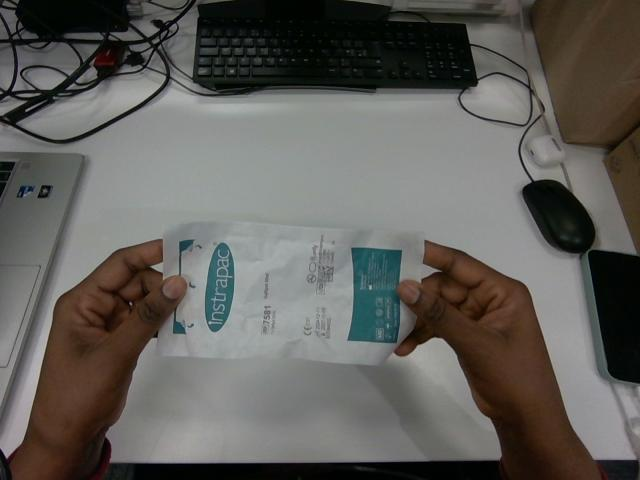gallipot: (157, 222, 423, 363)
